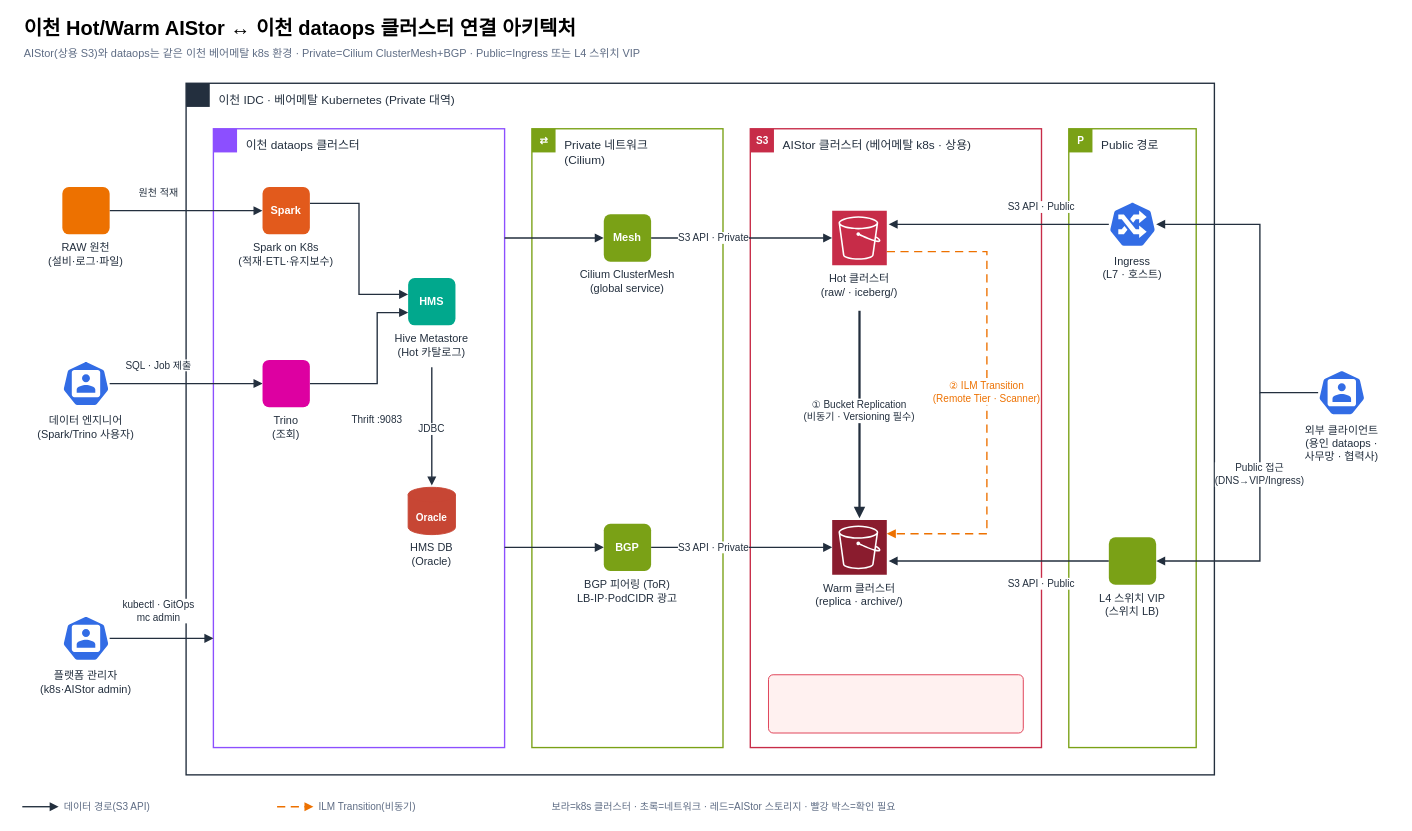
Image size: 1412x831. Some labels were removed from this diagram. Here are the shapes that lost their labels. From the top down, the centre of each, then its label:
At (197,94): "IDC".
At (225,140): "k8s".
At (85,210): "RAW".
At (285,383): "Trino".
At (1132,560): "VIP".
At (895,703): "⚠ ①·② 동시 적용 대상·순서 검증 필요 근거: Global Reference PDF · Replication.pdf".
